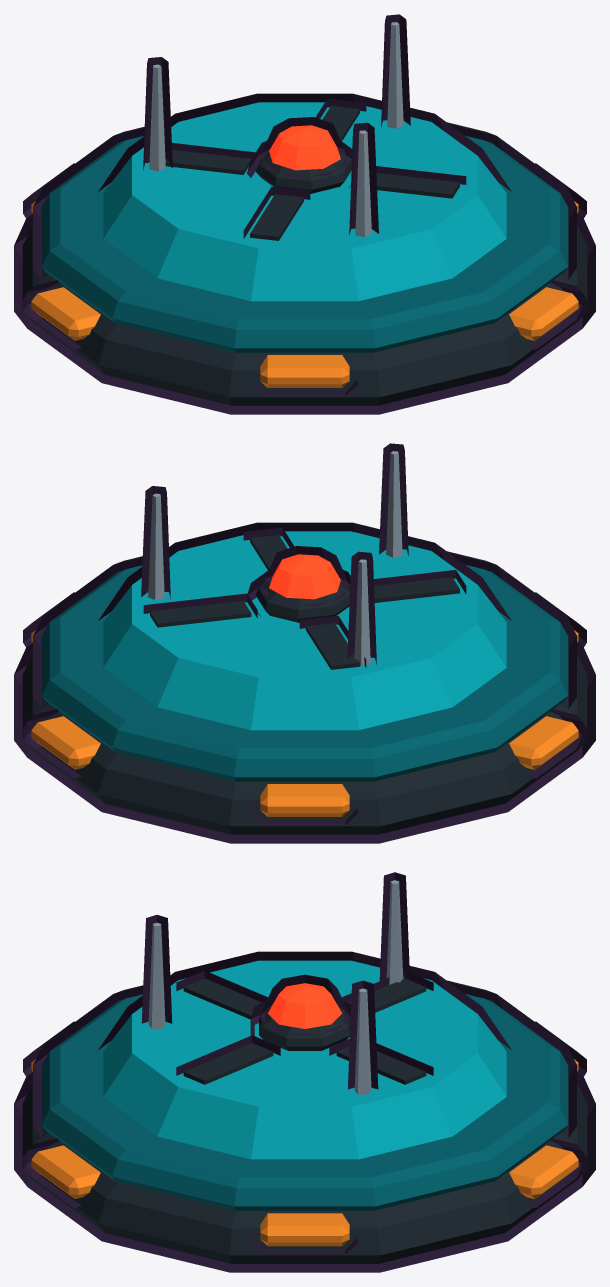
Rendered from LandMine.glb.
3 renders of one model, top to bottom at view 1: azimuth 30°, elevation 25°; view 2: azimuth 150°, elevation 25°; view 3: azimuth 270°, elevation 25°, orthographic.
Visible parts, largest first — view 1: LandMine_GAME_Base; view 2: LandMine_GAME_Base; view 3: LandMine_GAME_Base.
Part boxes in pixels (box(x1,y1,x2,y2)): LandMine_GAME_Base: box(14, 14, 595, 414); LandMine_GAME_Base: box(14, 443, 595, 843); LandMine_GAME_Base: box(14, 872, 595, 1272).
Size of the model in its own units: 0.811 by 0.3376 by 0.7805.
